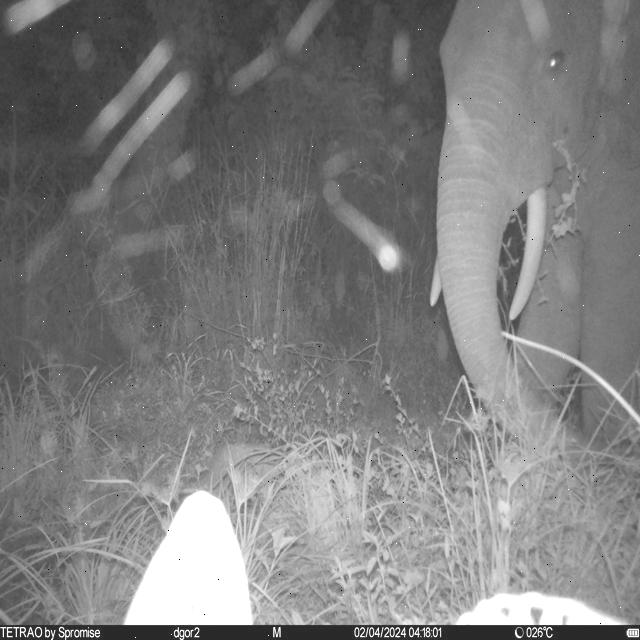elephant: (431, 0, 640, 444)
tusk: (509, 186, 548, 326), (432, 255, 443, 308)
